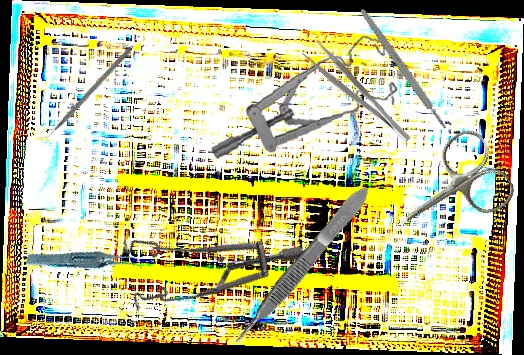Chopper: (36, 41, 133, 145)
Dressing Forceps: (301, 37, 413, 153)
Iris Scissors: (377, 123, 521, 259)
Scalpel Handle: (358, 7, 449, 131)
Speculum: (99, 158, 309, 355), (201, 33, 403, 160)
Tissue Forceps: (226, 181, 376, 350), (25, 230, 145, 295)
